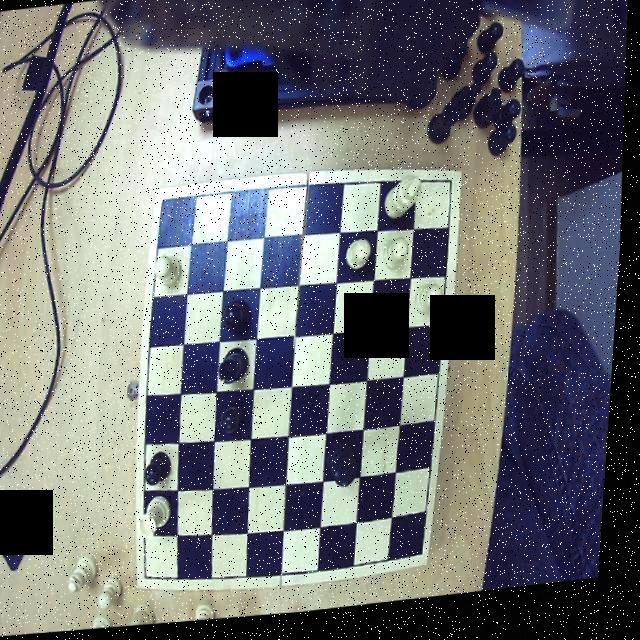chess-table-corners: (157, 193, 181, 220), (419, 544, 438, 574), (440, 178, 462, 202), (148, 570, 168, 594)
